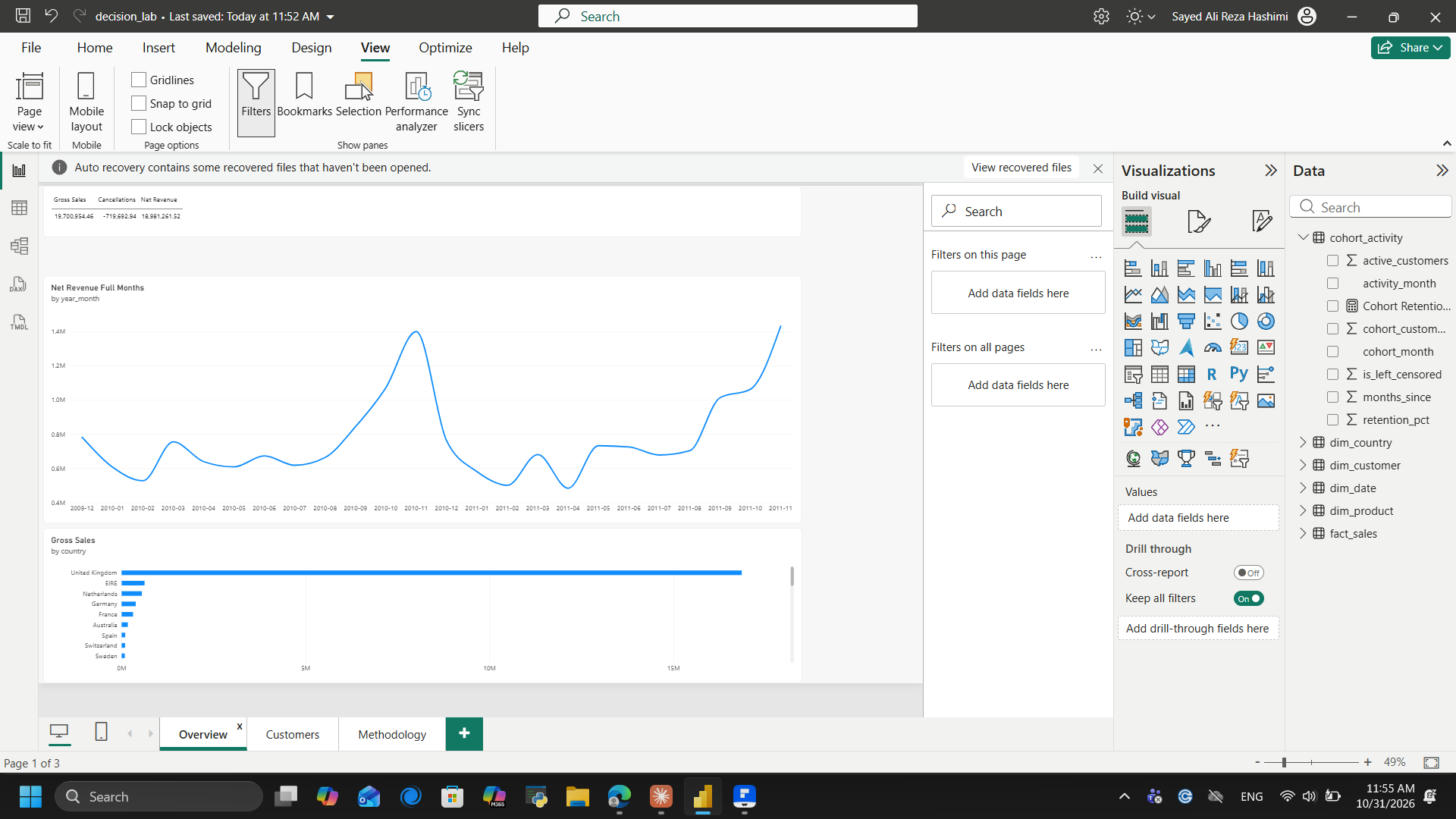

The dashboard page shown, as its layout file describes it:
{"tool":"powerbi","page":{"name":"Overview","canvas":[1920,1080],"ordinal":0},"visuals":[{"type":"tableEx","fields":{"Values":["fact_sales.Gross Sales","fact_sales.Cancellations","fact_sales.Net Revenue"]},"box":[10.3,0,1646.7,111.1],"z":0},{"type":"lineChart","fields":{"Category":["dim_date.year_month"],"Y":["fact_sales.Net Revenue Full Months"]},"box":[10.3,195.5,1646.7,537.2],"z":1},{"type":"clusteredBarChart","fields":{"Category":["dim_country.country"],"Y":["fact_sales.Gross Sales"]},"box":[10,743,1647,337],"z":2}]}

Visuals, with their boxes on the page's 1920x1080 design canvas (x1, y1, x2, y2). These are canvas units, not pixel positions in the 1456x819 screenshot, which may show the page scaled, cropped or inside an application window:
tableEx - fact_sales.Gross Sales x fact_sales.Cancellations: (10,0,1657,111)
lineChart - dim_date.year_month x fact_sales.Net Revenue Full Months: (10,196,1657,733)
clusteredBarChart - dim_country.country x fact_sales.Gross Sales: (10,743,1657,1080)
